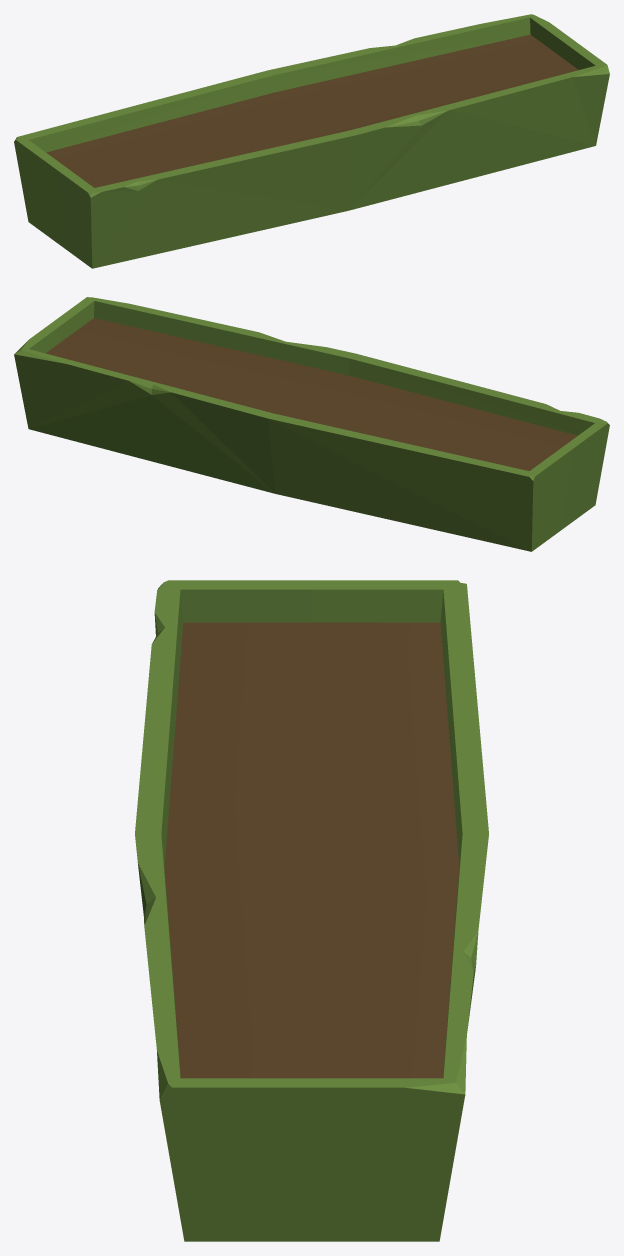
The model's file is Water_02.fbx.
3 views of the same model, one above another, from view 1: azimuth 30°, elevation 25°; view 2: azimuth 150°, elevation 25°; view 3: azimuth 270°, elevation 25° (orthographic). The views are drawn at different scales.
Parts seen in each view (by area): view 1: Water_02; view 2: Water_02; view 3: Water_02.
Boxes of the visible parts, bbox=[...] form: Water_02: bbox=[14, 14, 609, 268]; Water_02: bbox=[14, 297, 609, 551]; Water_02: bbox=[135, 580, 488, 1241].
Bounding box in the file's own units: 1.76 × 0.2623 × 0.5192.
